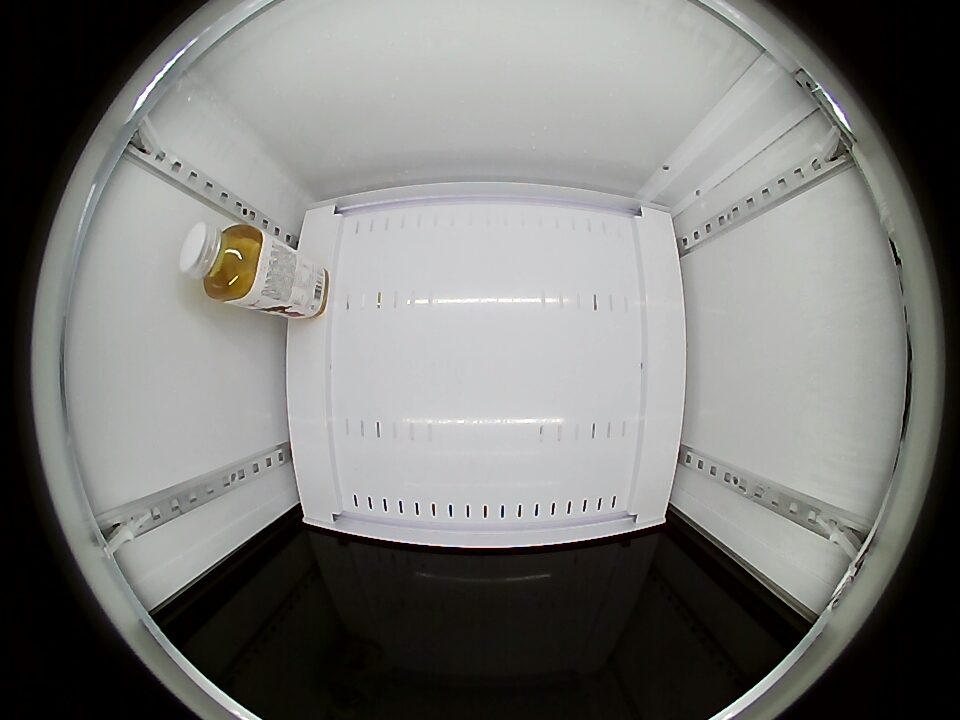chapai: (179, 221, 266, 305)
